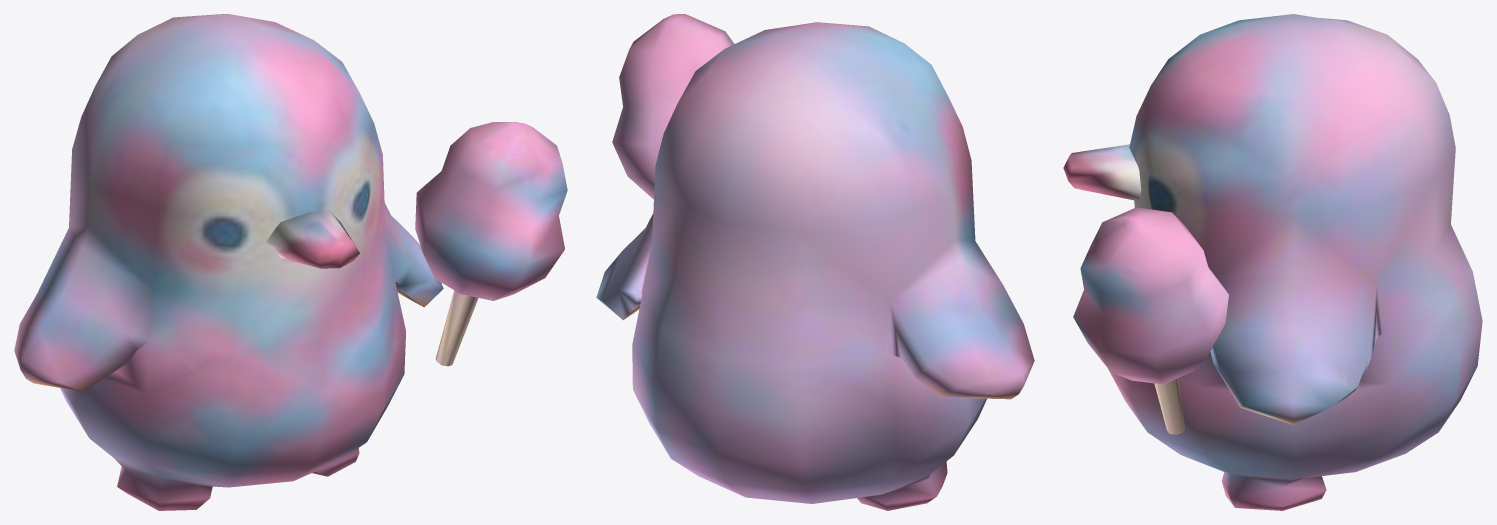
File: penguin-10-42-cotton-candy-clay-penguin.gltf
3 views of the same model, side by side, from view 1: azimuth 30°, elevation 25°; view 2: azimuth 150°, elevation 25°; view 3: azimuth 270°, elevation 25° (orthographic). The views are drawn at different scales.
Visible parts, largest first — view 1: penguin-10-42-cotton-candy-clay-penguin; view 2: penguin-10-42-cotton-candy-clay-penguin; view 3: penguin-10-42-cotton-candy-clay-penguin.
Part boxes in pixels (bbox=[...]): penguin-10-42-cotton-candy-clay-penguin: bbox=[14, 14, 567, 510]; penguin-10-42-cotton-candy-clay-penguin: bbox=[596, 14, 1034, 510]; penguin-10-42-cotton-candy-clay-penguin: bbox=[1063, 14, 1482, 510].
Size of the model in its own units: 0.2 by 0.18 by 0.1564.
Materials: 1 (1 with a texture image).
